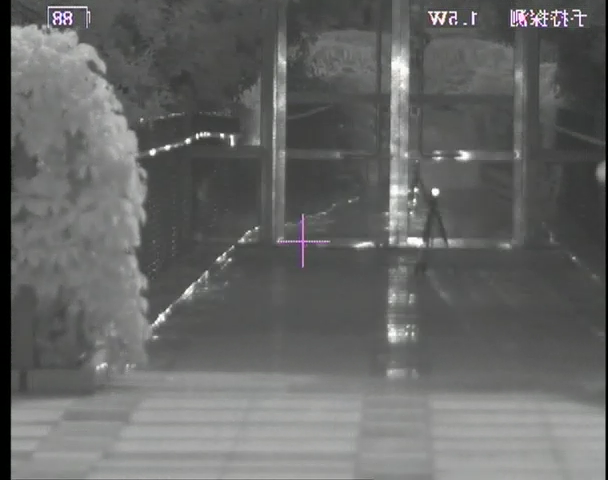my: (430, 186, 440, 198)
